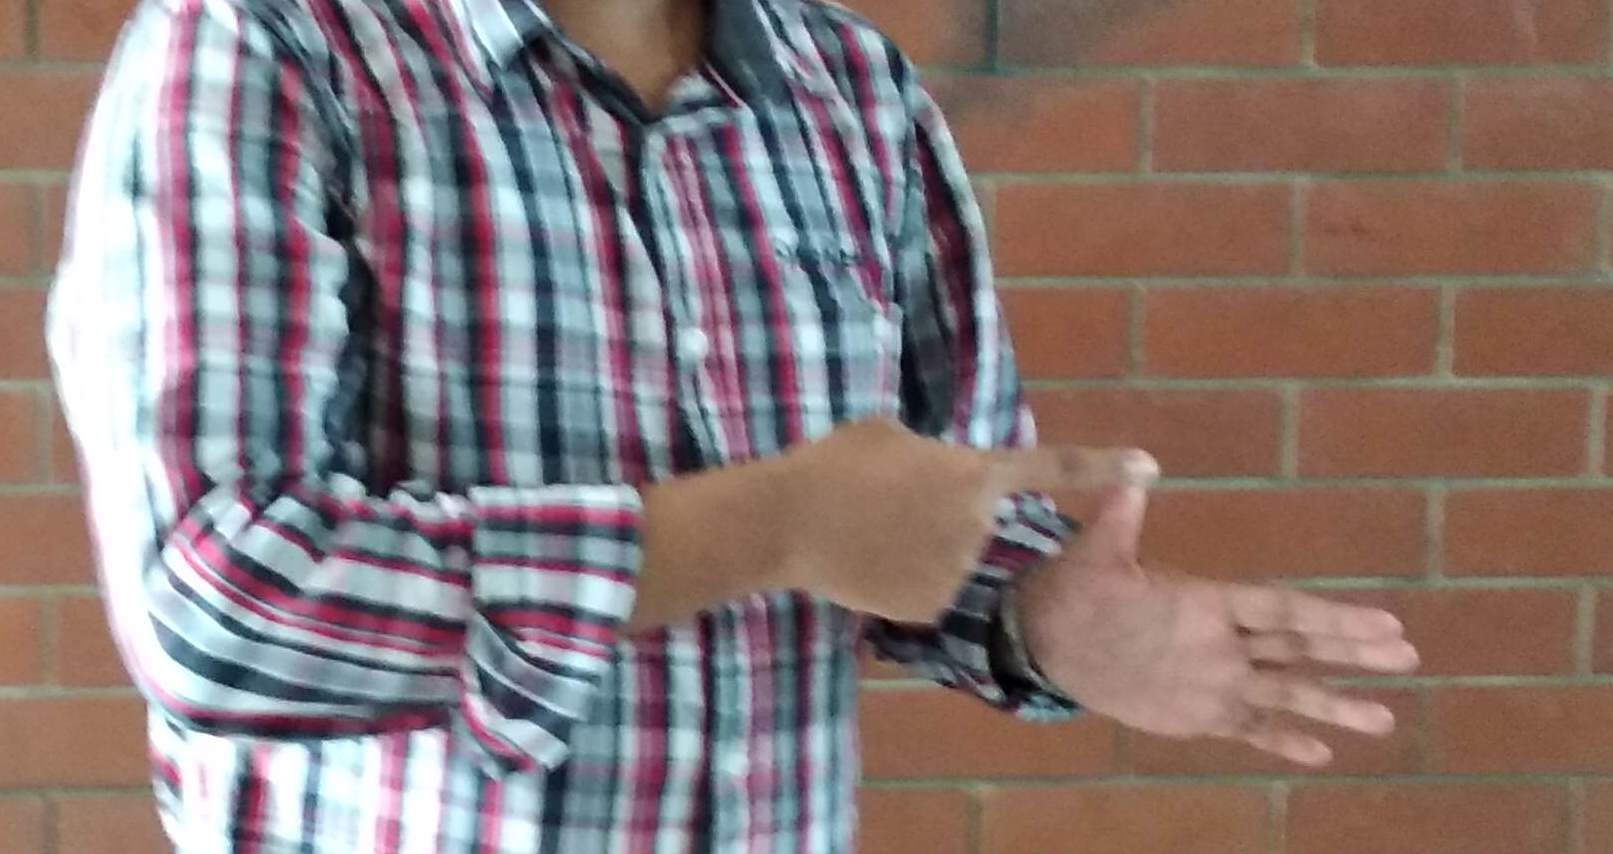a: (842, 424, 1425, 797)
